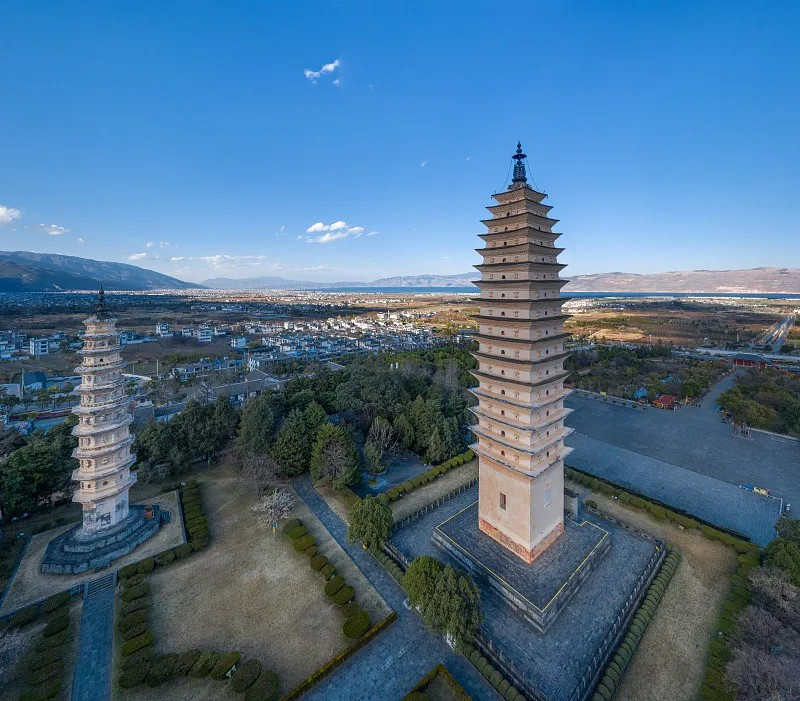ThreePagoda: (468, 141, 576, 565)
